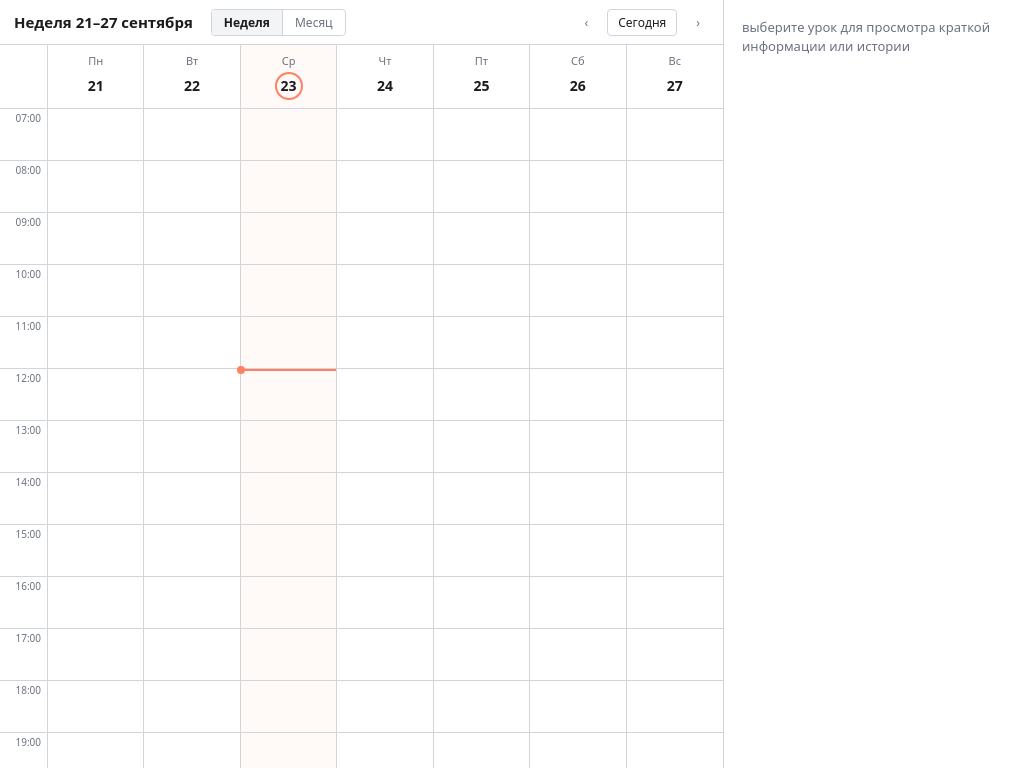
Test: CalendarHome empty chrome › navigating away from today removes now-line and today-tint
Click the button named "Вперёд": (698, 22) [687,8,709,36]
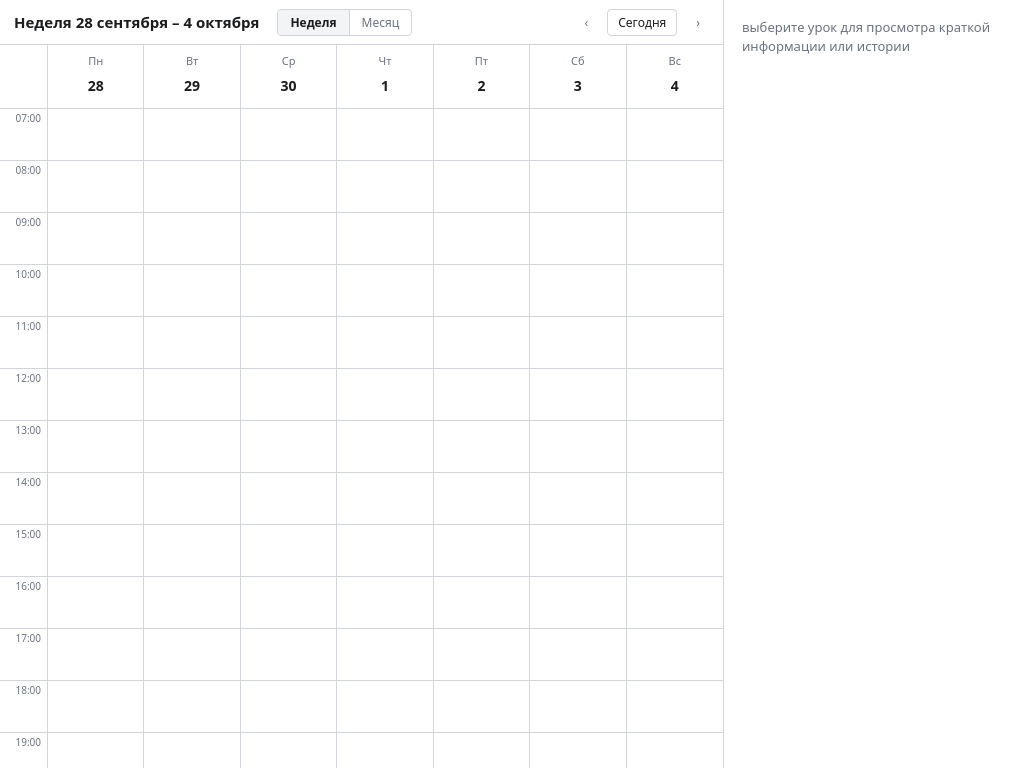
Expected: no column headings with class "today" are shown
Expected: no elements with class "today-col" are shown
